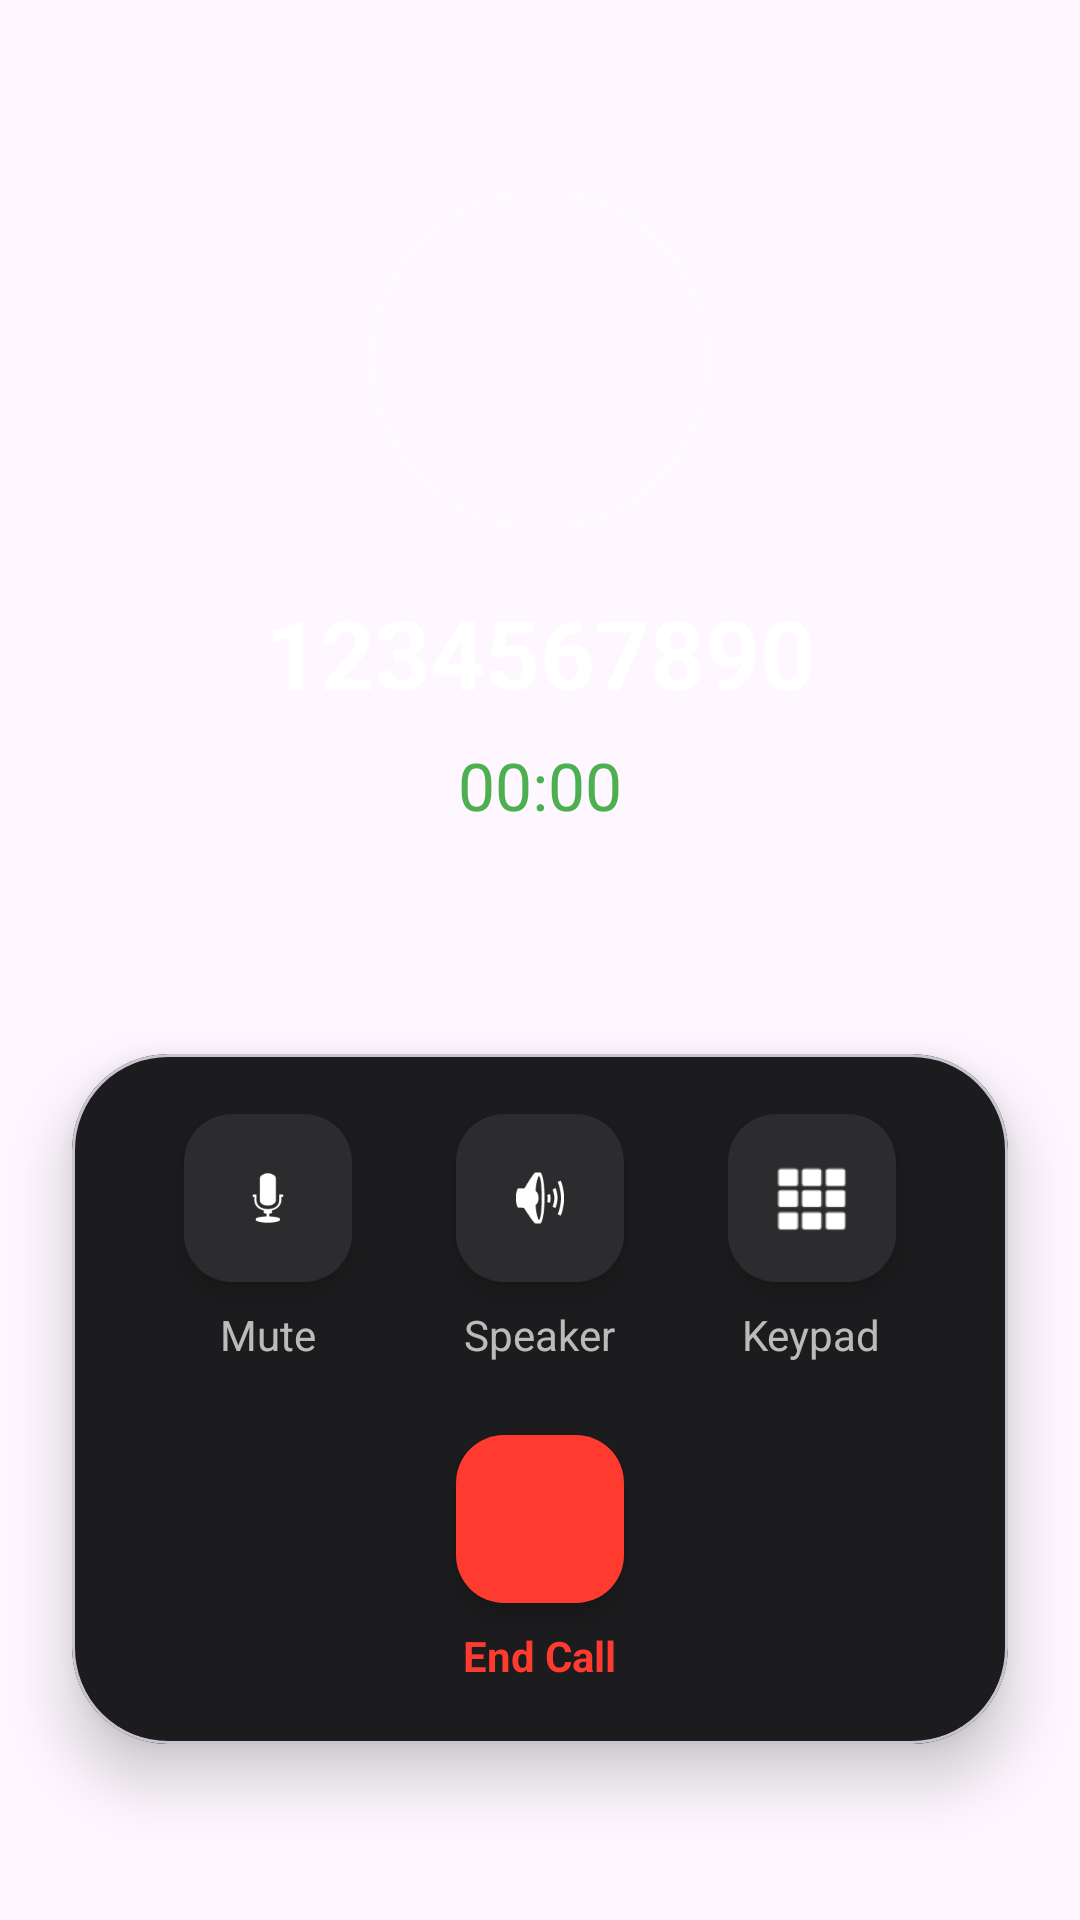

Icons on this 1080 x 1920 Android screen, each with its box as (x1, y1, x2, y2):
dialer: (777, 1167, 847, 1231)
speak now: (252, 1173, 284, 1223)
